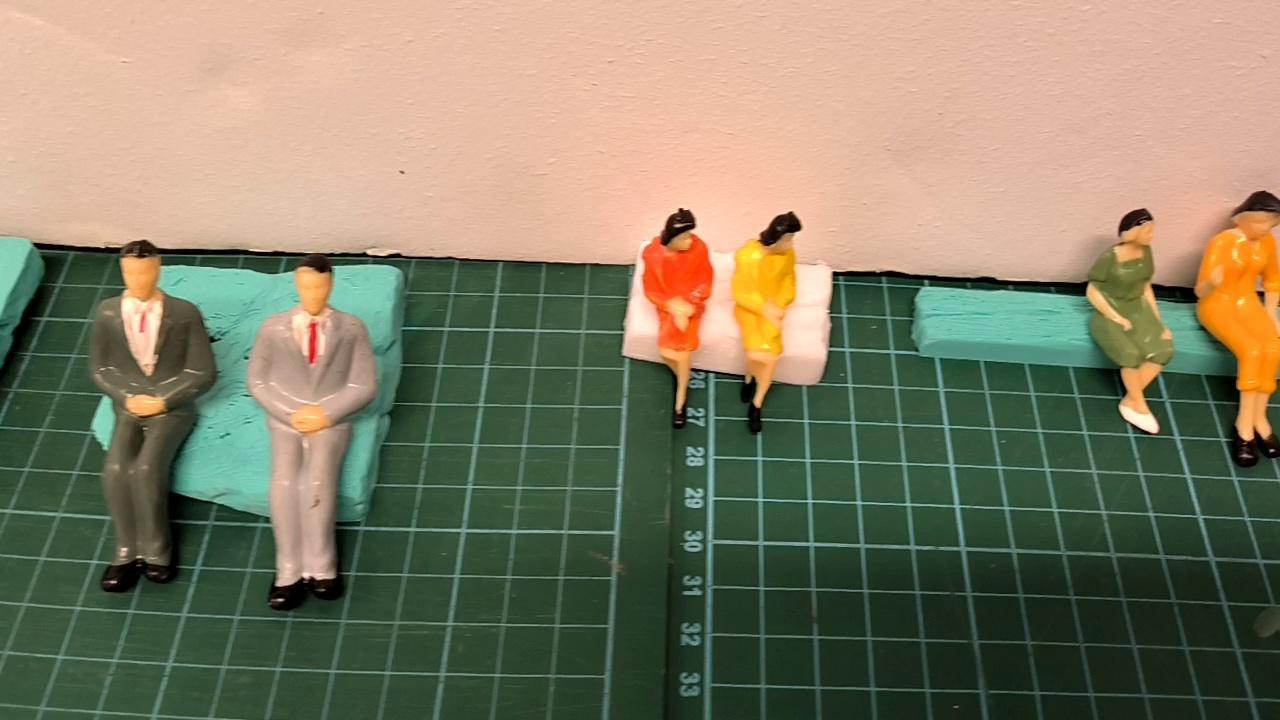human: (91, 242, 219, 596), (249, 260, 377, 614), (1195, 188, 1280, 470), (1087, 208, 1170, 440), (730, 208, 808, 438), (641, 210, 715, 436)
